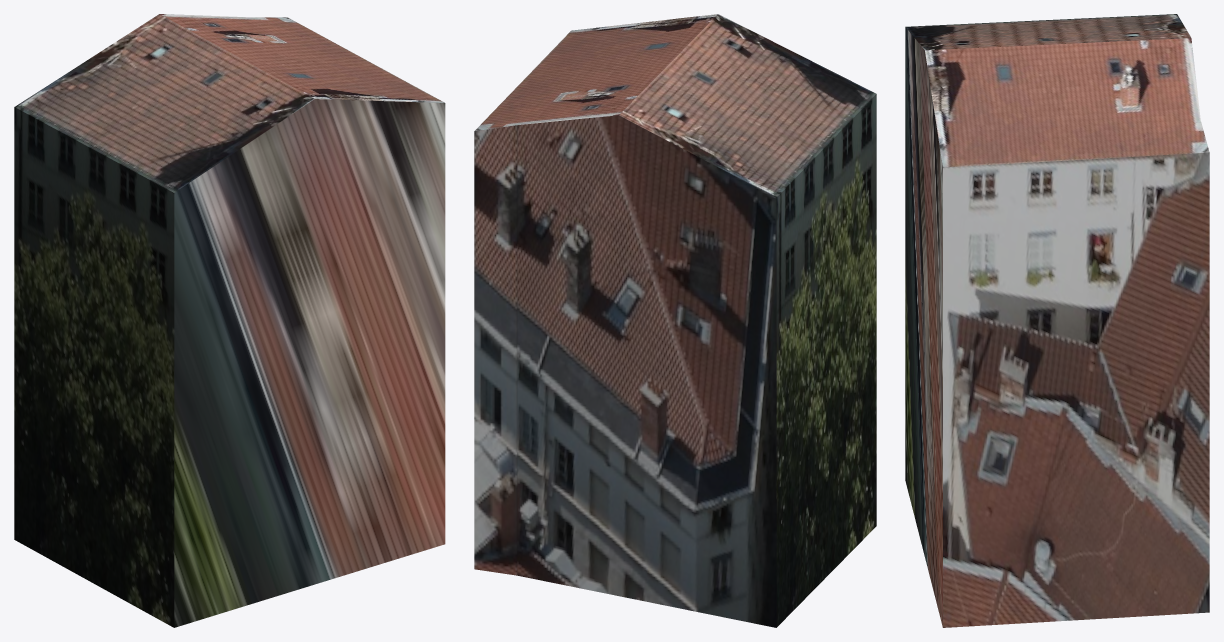
3 renders of one model, left to right at view 1: azimuth 30°, elevation 25°; view 2: azimuth 150°, elevation 25°; view 3: azimuth 270°, elevation 25°, orthographic. The views are drawn at different scales.
Visible parts, largest first — view 1: Z_UP; view 2: Z_UP; view 3: Z_UP.
Boxes of the visible parts, x1,y1,x2,y2 form: Z_UP: (14, 14, 445, 627); Z_UP: (474, 14, 876, 627); Z_UP: (905, 14, 1209, 627).
Size of the model in its own units: 17.03 by 24.78 by 13.49.
Materials: 2 (1 with a texture image).
